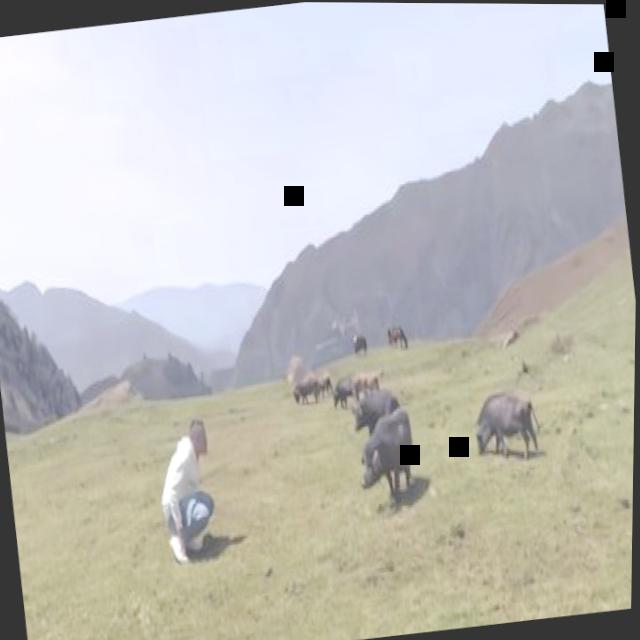Fall-Detected: (290, 360, 340, 404)
